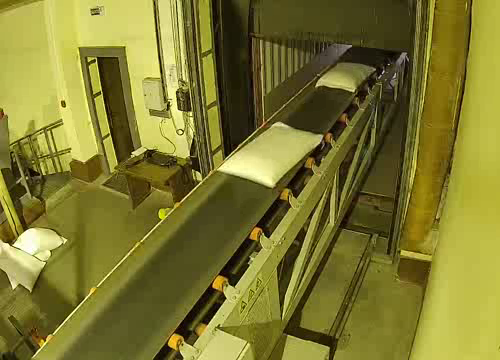bag: (208, 122, 330, 193), (312, 60, 378, 94)
